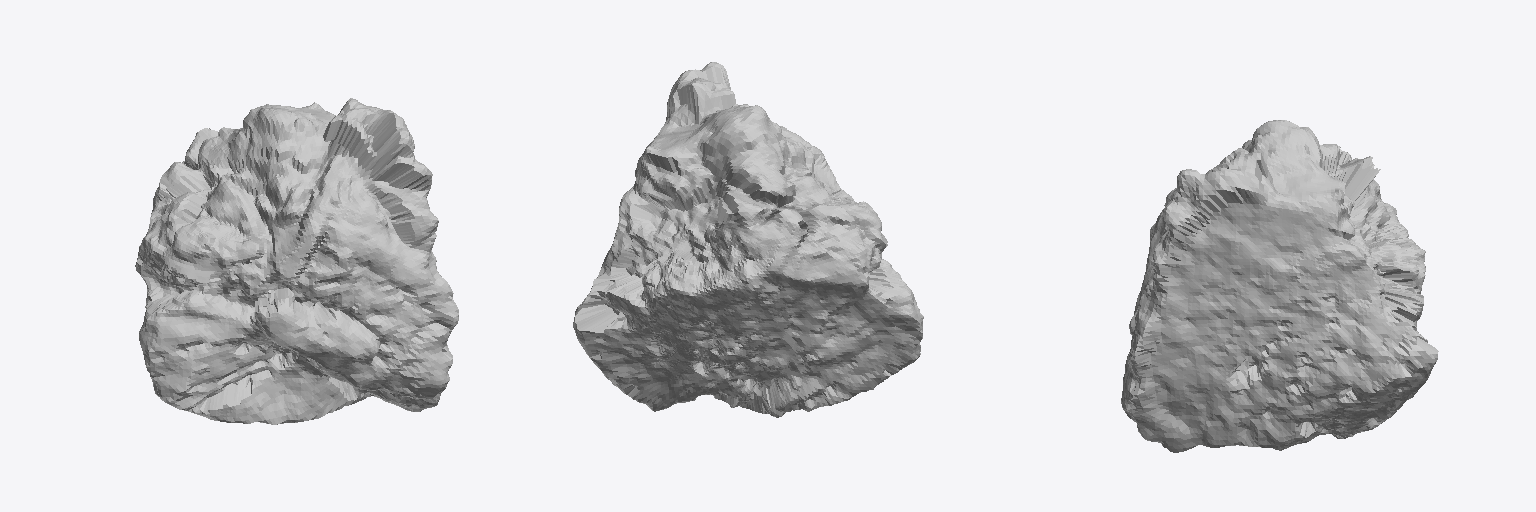
Rendered from cubic.obj.
3 views of the same model, side by side, from view 1: azimuth 30°, elevation 25°; view 2: azimuth 150°, elevation 25°; view 3: azimuth 270°, elevation 25° (orthographic).
Visible parts, largest first — view 1: Cube; view 2: Cube; view 3: Cube.
Part boxes in pixels (x1,y1,x2,y2): Cube: (135,98,458,424); Cube: (573,62,923,417); Cube: (1121,120,1438,452).
Bounding box in the file's own units: 0.7034 × 0.7321 × 0.7292.